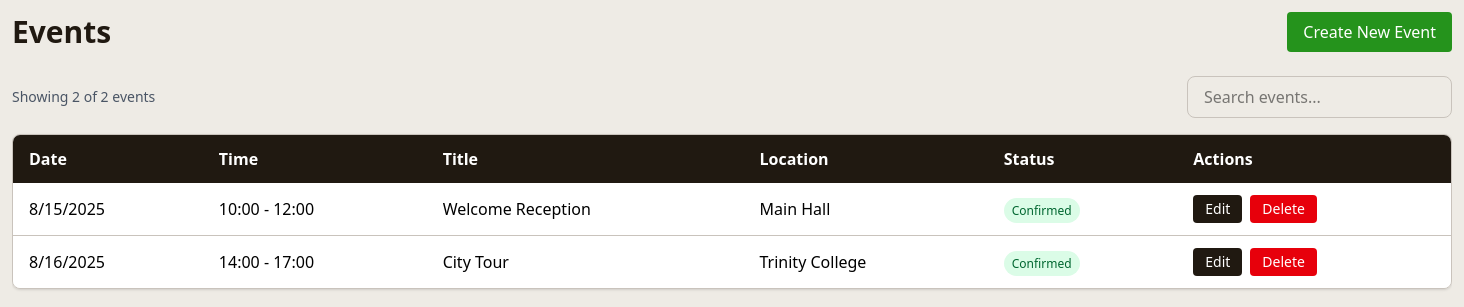
Test: Admin Events List Page › should search by location
Expected: the text "Welcome Reception" is shown, [427,183,744,236]
Expected: the text "City Tour" is shown, [427,236,744,288]
Type "Trinity" into the field with placeholder "Search events..." at (1320, 97), box [1187,76,1452,118]
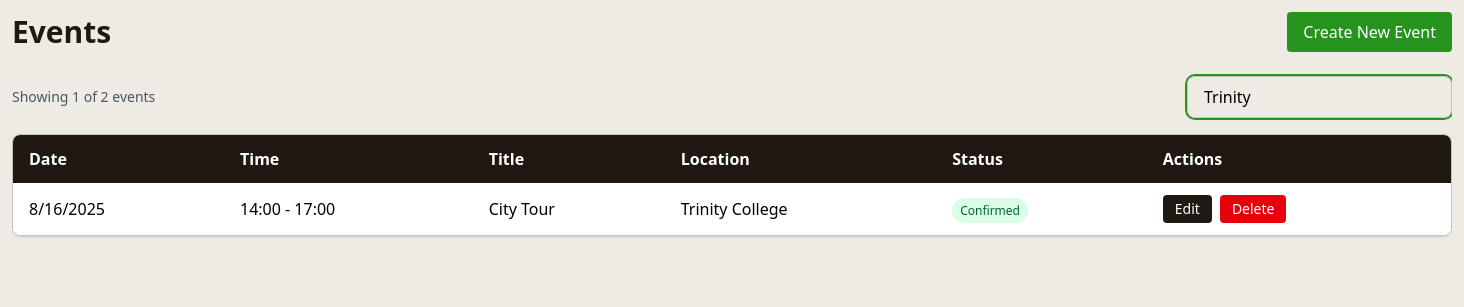
Expected: the text "Welcome Reception" is gone
Expected: the text "City Tour" is shown, [473,183,665,235]
